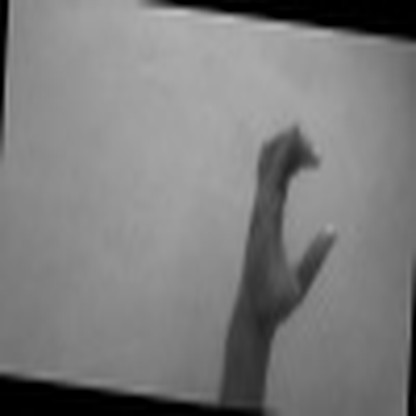c: (238, 117, 341, 324)
